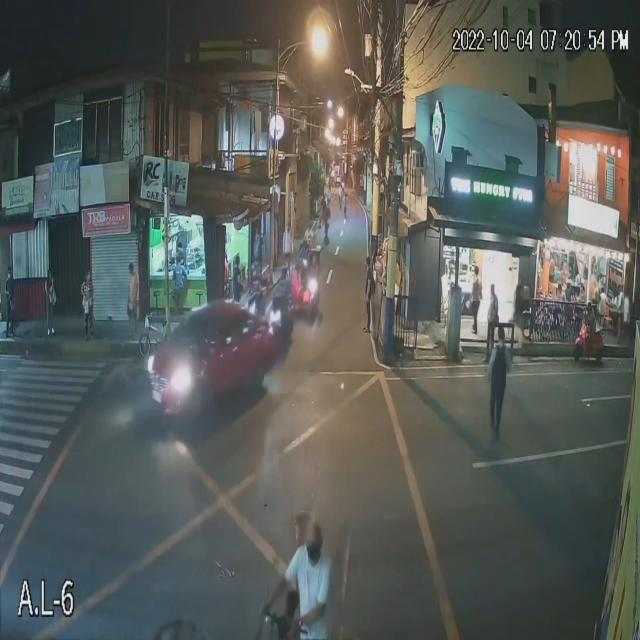Full-Faced: (585, 298, 596, 317)
Not-Wearing-Helmet: (303, 519, 323, 560)
